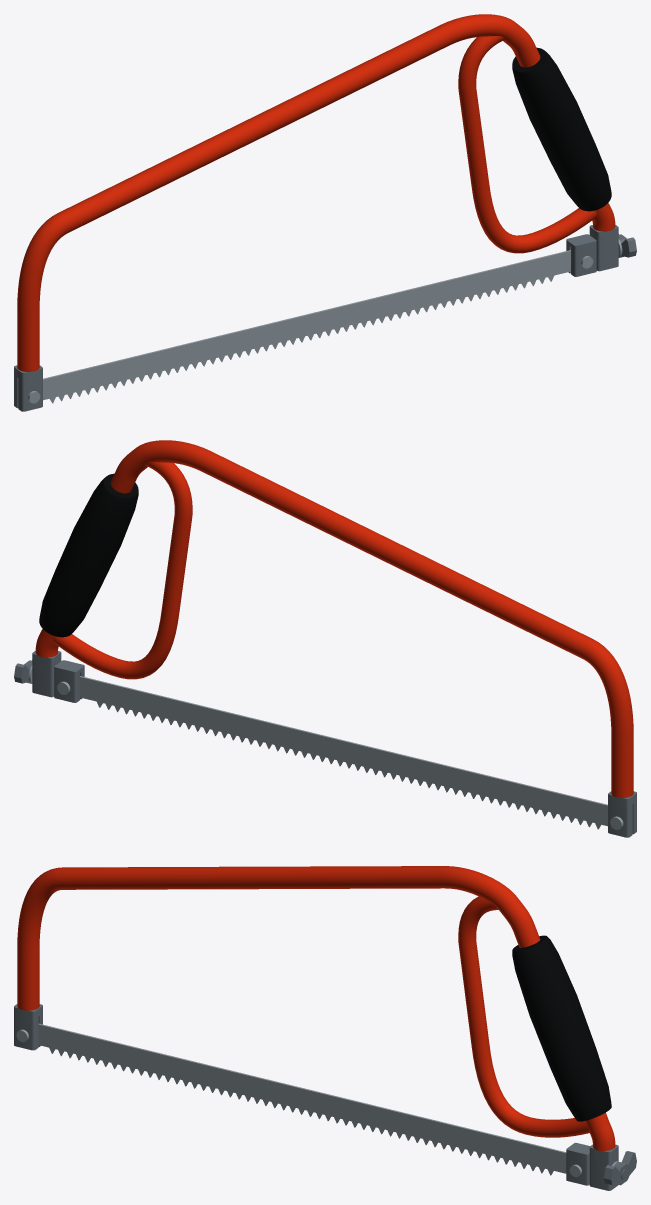
The picture shows the model from 3 angles, top to bottom: view 1: azimuth 30°, elevation 25°; view 2: azimuth 150°, elevation 25°; view 3: azimuth 330°, elevation 25°; orthographic projection.
Visible parts, largest first — view 1: part_009_Bow_frame_and_hand_guard, part_005_Installed_saw_blade, part_006_Handle_grip, part_008_Front_blade_clevis, part_002_Rear_tension_saddle, part_004_Rear_clevis_and_drawbar; view 2: part_009_Bow_frame_and_hand_guard, part_005_Installed_saw_blade, part_006_Handle_grip, part_008_Front_blade_clevis, part_002_Rear_tension_saddle, part_004_Rear_clevis_and_drawbar; view 3: part_009_Bow_frame_and_hand_guard, part_005_Installed_saw_blade, part_006_Handle_grip, part_008_Front_blade_clevis, part_002_Rear_tension_saddle, part_004_Rear_clevis_and_drawbar, part_000_Tension_wing_nut.
Part boxes in pixels (x1,y1,x2,y2): part_009_Bow_frame_and_hand_guard: [17, 14, 615, 371]; part_005_Installed_saw_blade: [43, 250, 570, 403]; part_006_Handle_grip: [512, 47, 611, 211]; part_008_Front_blade_clevis: [14, 365, 42, 411]; part_002_Rear_tension_saddle: [589, 225, 618, 271]; part_004_Rear_clevis_and_drawbar: [566, 234, 596, 276]; part_009_Bow_frame_and_hand_guard: [35, 440, 633, 797]; part_005_Installed_saw_blade: [80, 676, 607, 829]; part_006_Handle_grip: [39, 473, 138, 637]; part_008_Front_blade_clevis: [608, 791, 636, 837]; part_002_Rear_tension_saddle: [32, 651, 61, 697]; part_004_Rear_clevis_and_drawbar: [54, 660, 84, 702]; part_009_Bow_frame_and_hand_guard: [17, 866, 615, 1150]; part_005_Installed_saw_blade: [38, 1023, 566, 1175]; part_006_Handle_grip: [512, 935, 611, 1121]; part_008_Front_blade_clevis: [14, 1004, 42, 1050]; part_002_Rear_tension_saddle: [589, 1144, 618, 1190]; part_004_Rear_clevis_and_drawbar: [566, 1142, 627, 1185]; part_000_Tension_wing_nut: [604, 1151, 636, 1185].
Bounding box in the file's own units: 0.2686 × 0.1204 × 0.0213.
